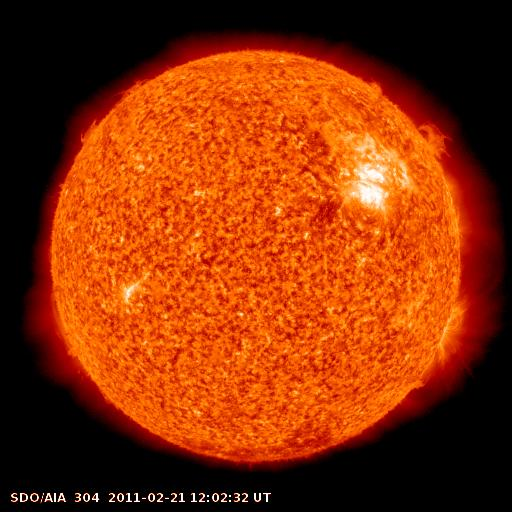prominence: (72, 69, 155, 155), (44, 279, 90, 364), (405, 106, 464, 167), (350, 63, 390, 102)
